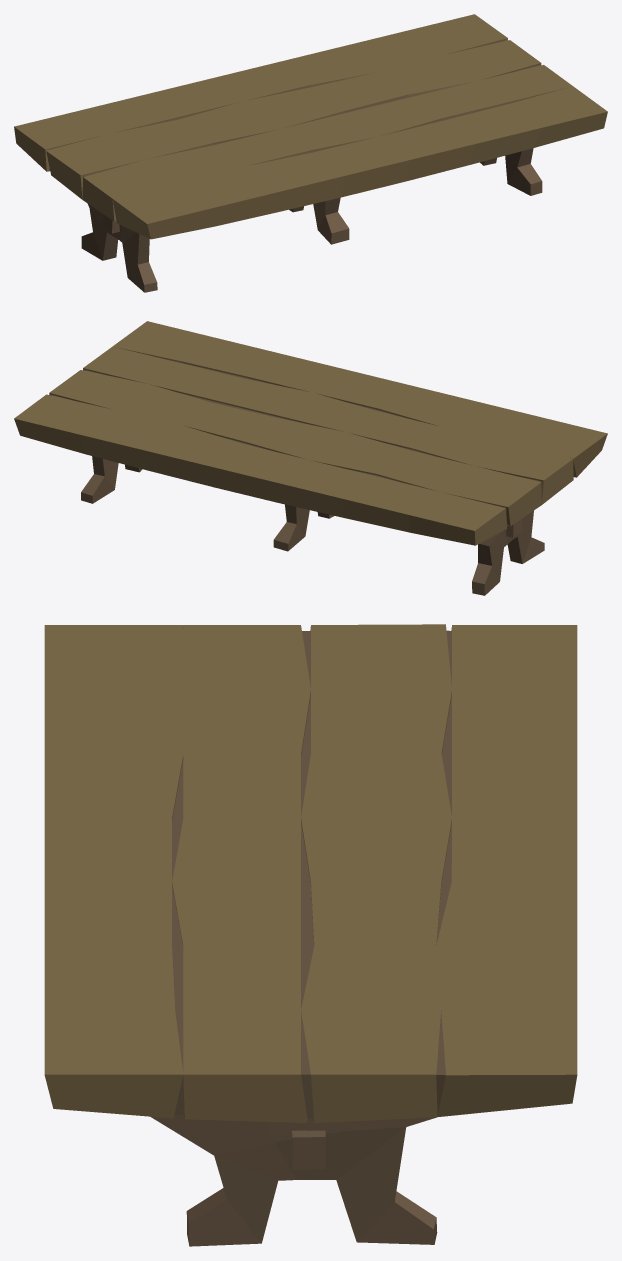
File: table.gltf
The picture shows the model from 3 angles, top to bottom: view 1: azimuth 30°, elevation 25°; view 2: azimuth 150°, elevation 25°; view 3: azimuth 270°, elevation 25°; orthographic projection. The views are drawn at different scales.
Visible parts, largest first — view 1: Table_Big; view 2: Table_Big; view 3: Table_Big.
Part boxes in pixels (x1,y1,x2,y2): Table_Big: (14,14,607,292); Table_Big: (14,321,607,595); Table_Big: (44,624,577,1246).
Bounding box in the file's own units: 3.99 × 0.8335 × 1.99.
Materials: 1 (1 with a texture image).
